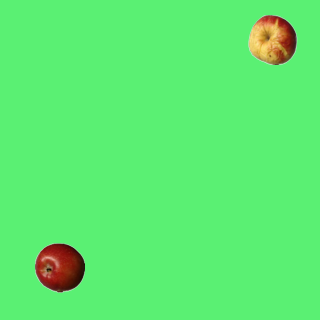Apple Braeburn: (34, 242, 84, 292)
Apple Red Yellow 1: (247, 14, 297, 64)
